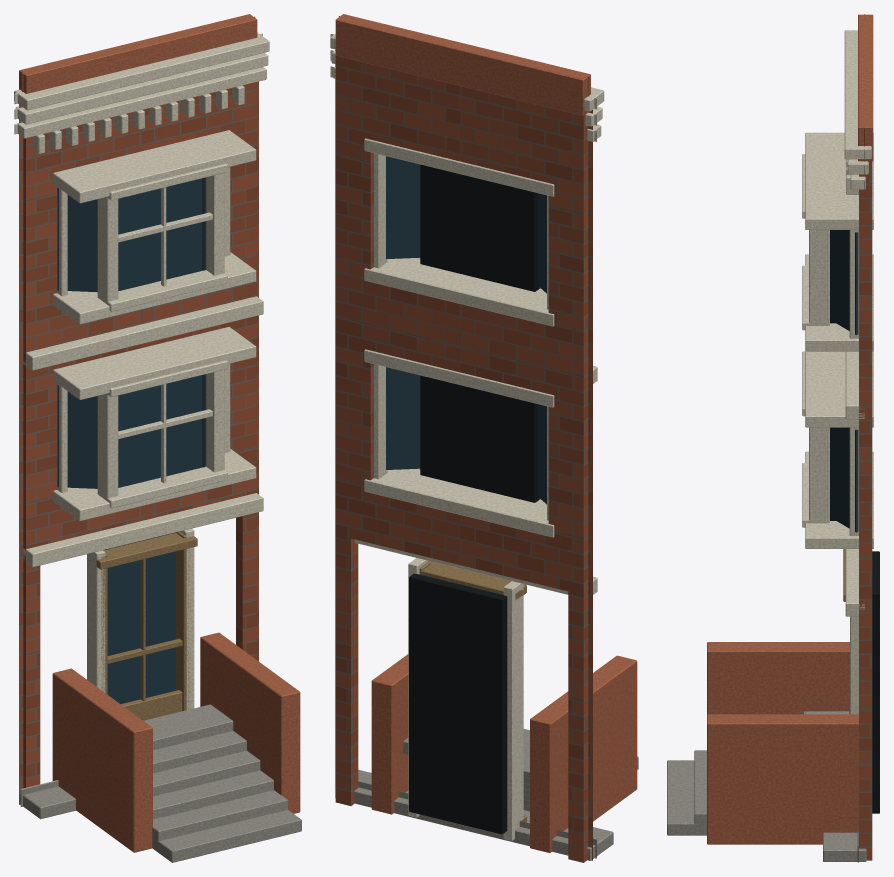
File: VICT25_lod1.glb
3 renders of one model, left to right at view 1: azimuth 30°, elevation 25°; view 2: azimuth 150°, elevation 25°; view 3: azimuth 270°, elevation 25°, orthographic. The views are drawn at different scales.
Visible parts, largest first — view 1: VICT25_FRONT_LOD1; view 2: VICT25_FRONT_LOD1; view 3: VICT25_FRONT_LOD1.
Part boxes in pixels (x1,y1,x2,y2): VICT25_FRONT_LOD1: (14, 14, 301, 862); VICT25_FRONT_LOD1: (330, 14, 638, 862); VICT25_FRONT_LOD1: (667, 14, 879, 862).
Bounding box in the file's own units: 3.44 × 9.66 × 2.54.
Materials: 8 (6 with a texture image).
